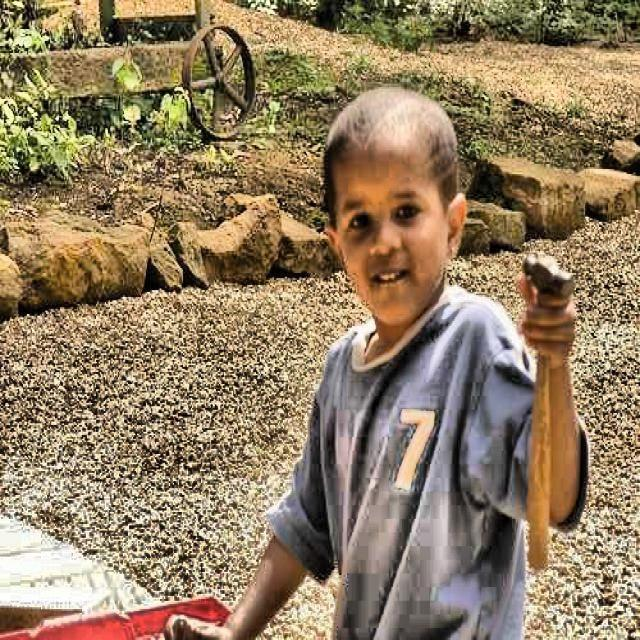hammer: (523, 249, 574, 577)
